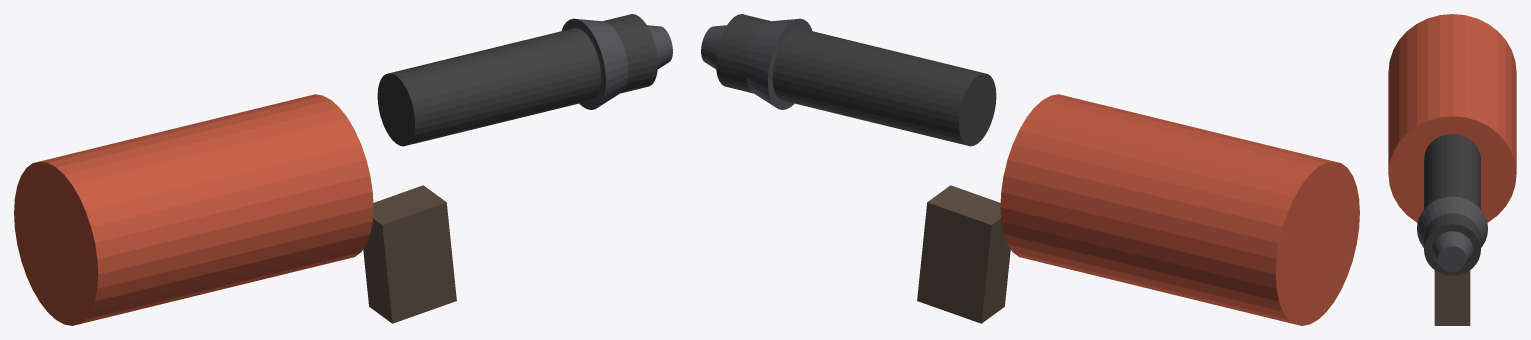
The model's file is lanzallamas.glb.
3 renders of one model, left to right at view 1: azimuth 30°, elevation 25°; view 2: azimuth 150°, elevation 25°; view 3: azimuth 270°, elevation 25°, orthographic. The views are drawn at different scales.
Visible parts, largest first — view 1: Lanzallamas; view 2: Lanzallamas; view 3: Lanzallamas.
Boxes of the visible parts, x1,y1,x2,y2 form: Lanzallamas: [14, 14, 672, 325]; Lanzallamas: [701, 14, 1359, 325]; Lanzallamas: [1388, 14, 1516, 325].
Size of the model in its own units: 0.75 by 0.2879 by 0.18.
